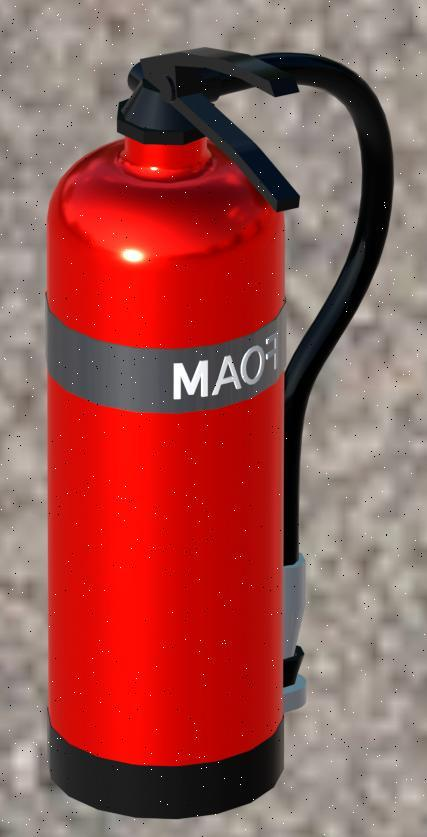Fire Extinguisher: (25, 0, 398, 828)
